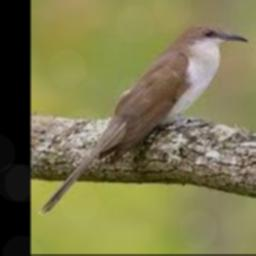Cuckoo: (38, 23, 248, 216)
